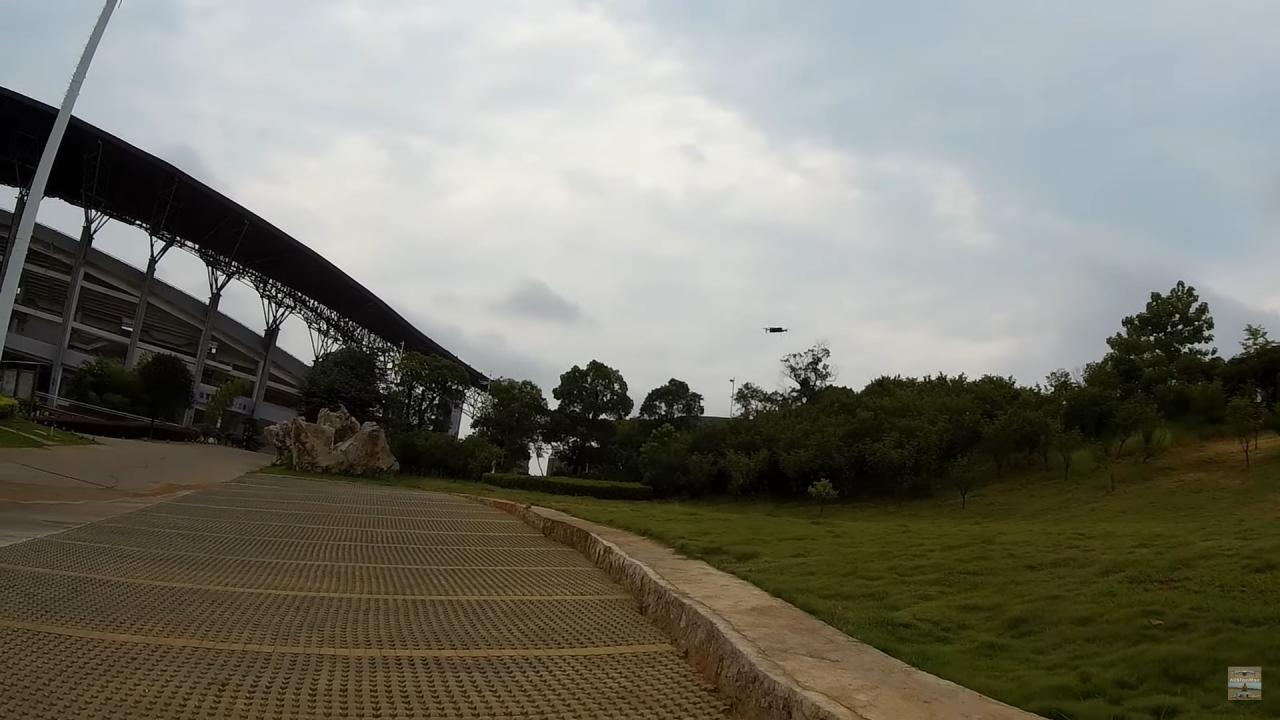Drone: (755, 318, 798, 342)
